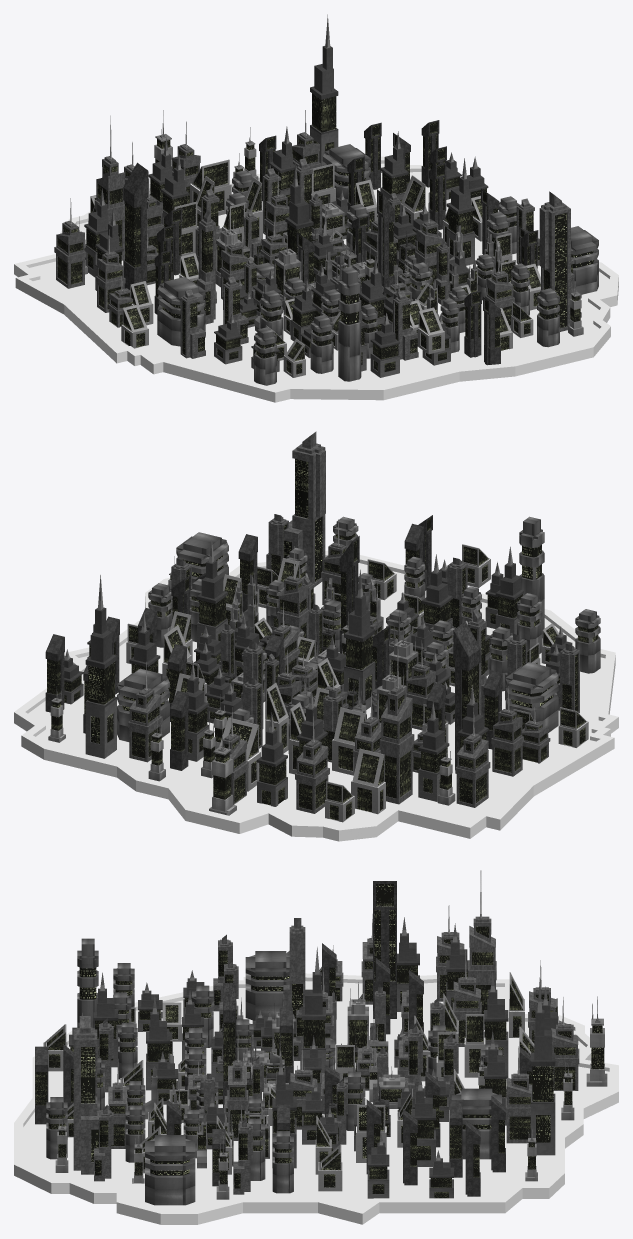
The model's file is City.dae.
3 views of the same model, one above another, from view 1: azimuth 30°, elevation 25°; view 2: azimuth 150°, elevation 25°; view 3: azimuth 270°, elevation 25° (orthographic). The views are drawn at different scales.
Parts seen in each view (by area): view 1: Model, Component_12 (×16), Component_3 (×14), Component_15 (×15), Component_2 (×12), Component_5 (×10), Component_1 (×12), Component_7 (×3), Component_9; view 2: Model, Component_12 (×16), Component_2 (×13), Component_3 (×13), Component_5 (×11), Component_15 (×12), Component_1 (×10), Component_9 (×4), Component_7 (×2); view 3: Model, Component_3 (×19), Component_12 (×18), Component_15 (×16), Component_2 (×11), Component_5 (×10), Component_1 (×8), Component_9 (×4), Component_7 (×2).
Part boxes in pixels (bbox=[...]): Model: bbox=[14, 156, 618, 402]; Component_12 (×16): bbox=[84, 14, 474, 377]; Component_3 (×14): bbox=[157, 144, 598, 385]; Component_15 (×15): bbox=[123, 120, 538, 365]; Component_2 (×12): bbox=[54, 110, 514, 328]; Component_5 (×10): bbox=[180, 158, 574, 360]; Component_1 (×12): bbox=[121, 159, 533, 377]; Component_7 (×3): bbox=[215, 196, 345, 309]; Component_9: bbox=[568, 284, 583, 336]; Model: bbox=[14, 550, 618, 841]; Component_12 (×16): bbox=[64, 539, 523, 806]; Component_2 (×13): bbox=[128, 519, 550, 813]; Component_3 (×13): bbox=[117, 516, 600, 741]; Component_5 (×11): bbox=[219, 431, 579, 762]; Component_15 (×12): bbox=[45, 515, 502, 770]; Component_1 (×10): bbox=[162, 544, 588, 822]; Component_9 (×4): bbox=[48, 686, 455, 815]; Component_7 (×2): bbox=[377, 622, 418, 722]; Model: bbox=[14, 973, 618, 1224]; Component_3 (×19): bbox=[46, 938, 501, 1205]; Component_12 (×18): bbox=[93, 917, 555, 1198]; Component_15 (×16): bbox=[35, 881, 505, 1196]; Component_2 (×11): bbox=[107, 870, 579, 1148]; Component_5 (×10): bbox=[73, 918, 458, 1194]; Component_1 (×8): bbox=[43, 972, 524, 1191]; Component_9 (×4): bbox=[55, 996, 607, 1199]; Component_7 (×2): bbox=[347, 982, 404, 1108].
Bounding box in the file's own units: 2217 × 2339 × 798.
Materials: 13 (11 with a texture image).
